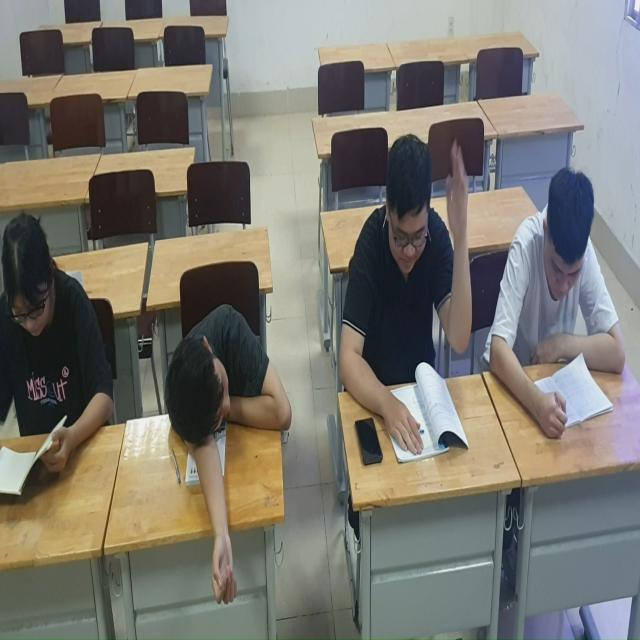raise_hand: (345, 92, 475, 452)
read: (498, 156, 635, 440), (1, 204, 128, 502)
sleep: (159, 279, 295, 606)
